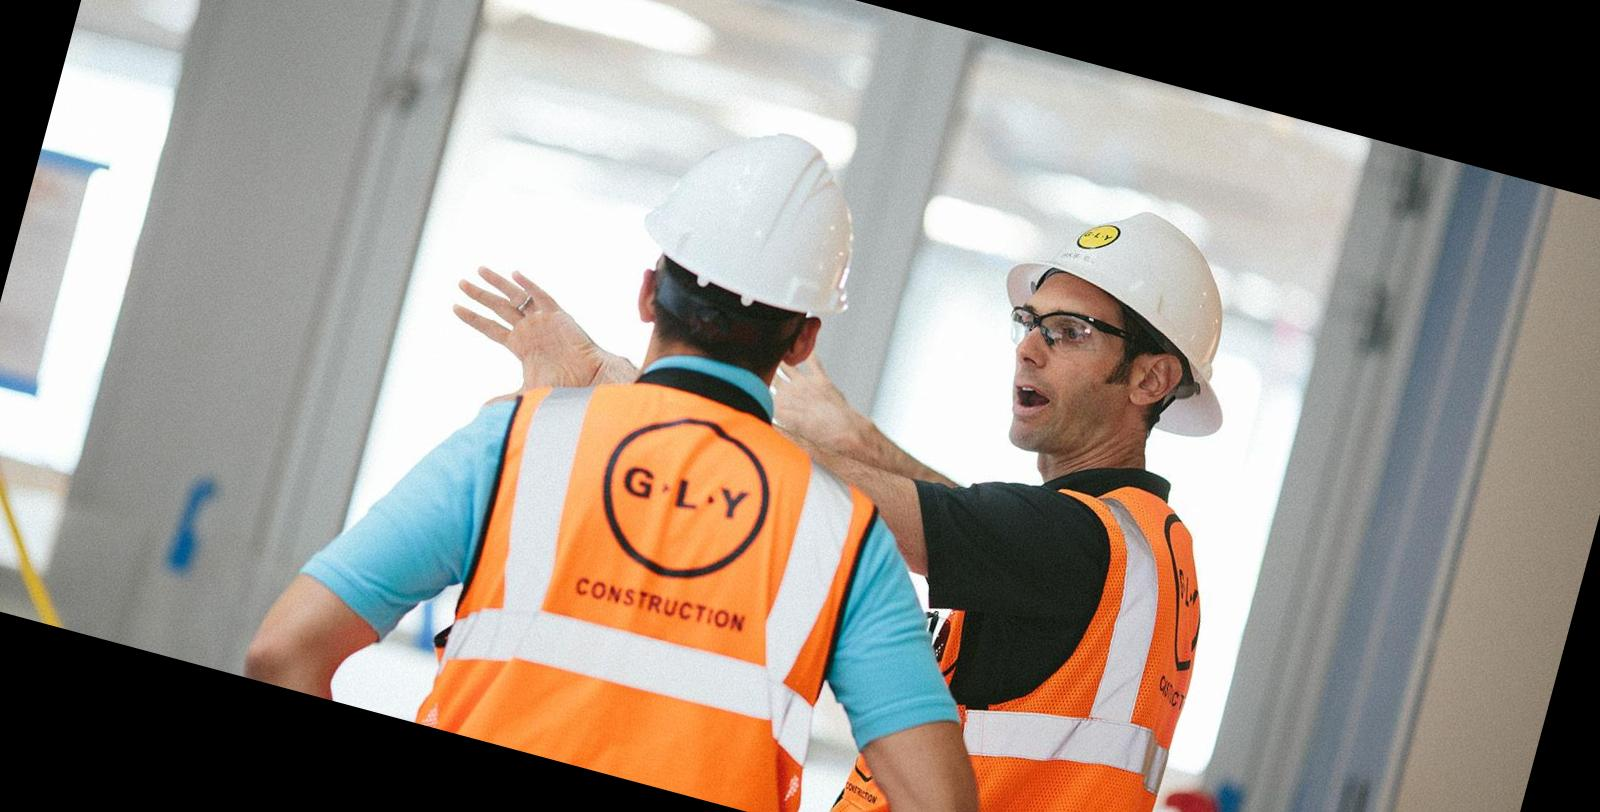Helmet: (978, 166, 1287, 453), (611, 98, 901, 343)
Vest: (401, 339, 931, 812), (899, 433, 1267, 812)
